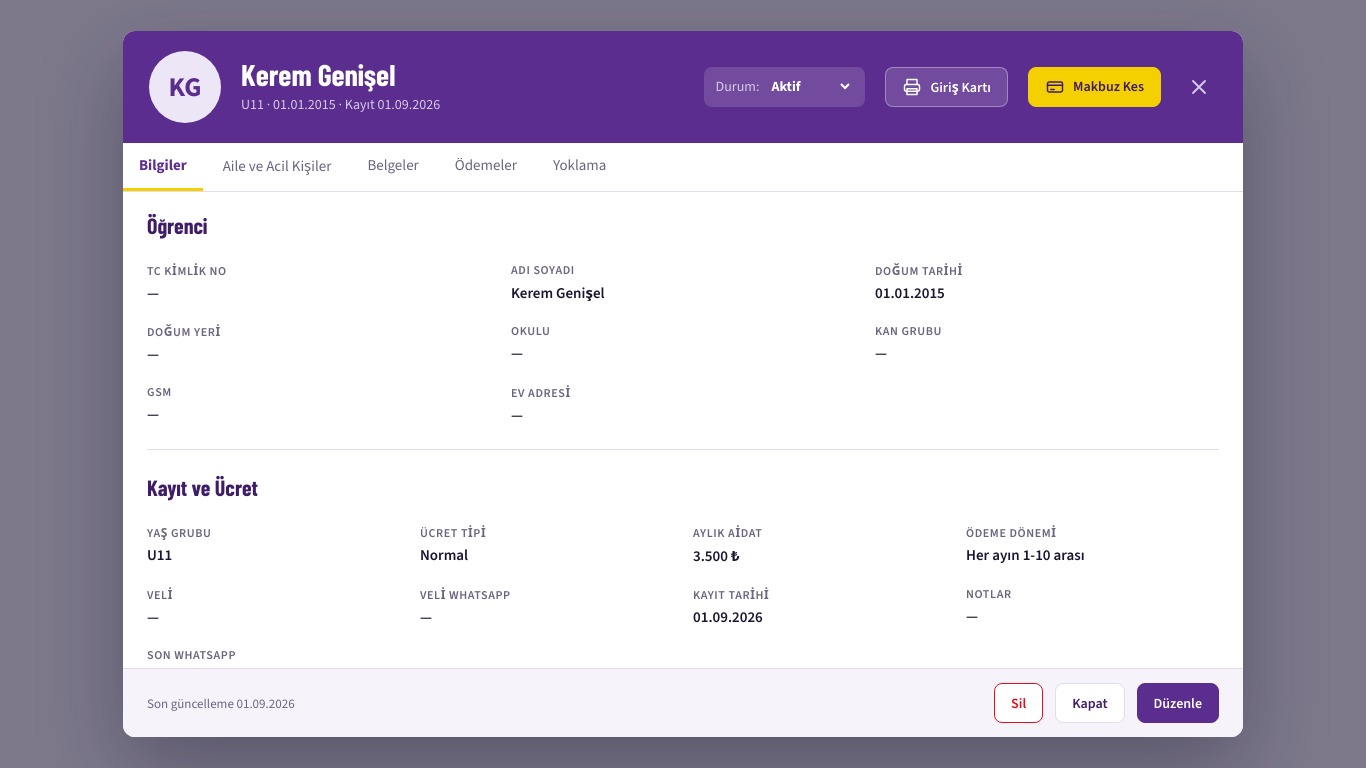
Test: Oyuncu kartı — Sil › makbuzlu oyuncuda kişisel veri silme onayı: makbuz sayısı, korunanlar/silinenler, anonim ad; Evet → files.oyuncuKisiselVeriSil, kart kapanır
This screenshot has width=1366, height=768.
Click the button "Sil" at {"x": 1019, "y": 703}, box [994, 683, 1043, 723]
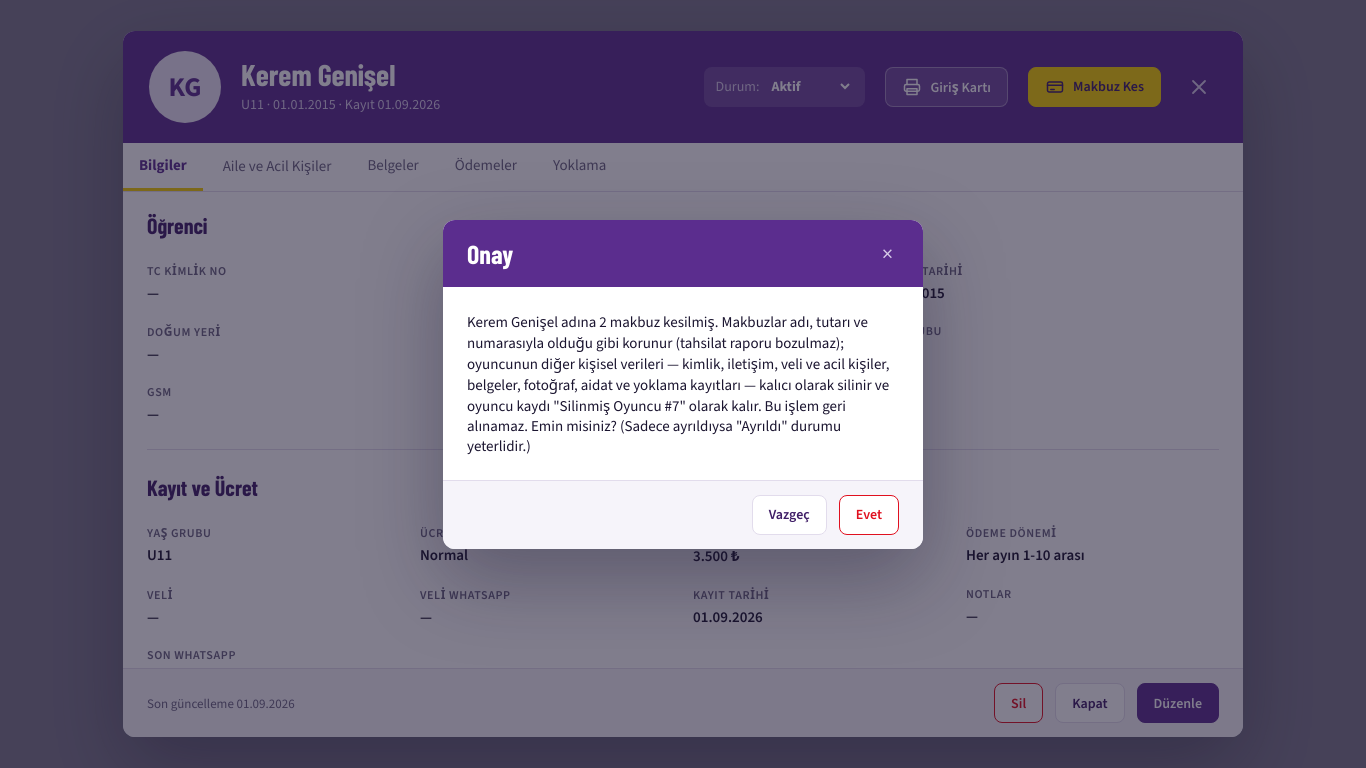
Check: the text "2 makbuz kesilmiş" shows "Makbuzlar adı, tutarı ve numarasıyla olduğu gibi korunur", box [467, 312, 890, 456]
Check: the text "2 makbuz kesilmiş" shows "kişisel verileri", box [467, 312, 890, 456]
Check: the text "2 makbuz kesilmiş" shows "\"Silinmiş Oyuncu #7\"", box [467, 312, 890, 456]
Click the button "Evet" at {"x": 869, "y": 514}, box [839, 494, 899, 534]
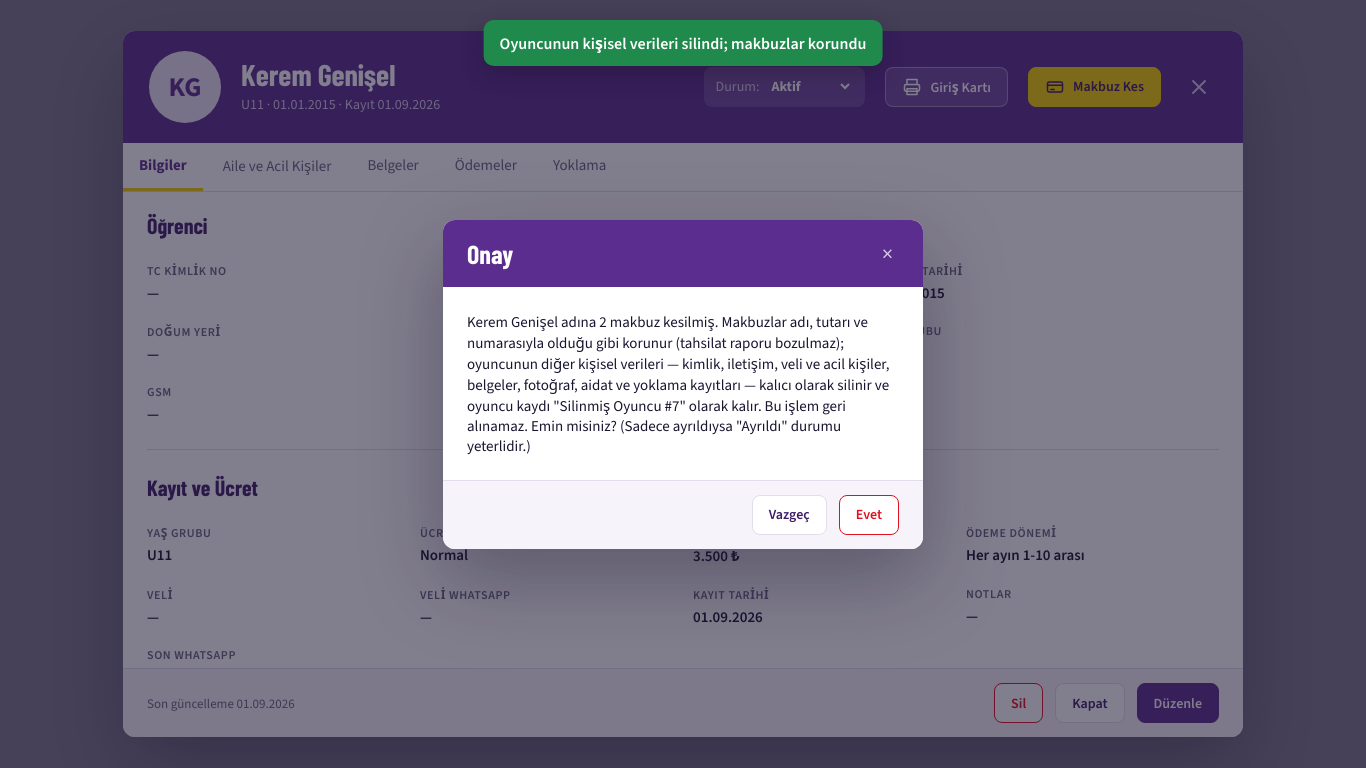
Check: the text "Oyuncunun kişisel verileri silindi; makbuzlar korundu" is shown, box [484, 20, 882, 66]
